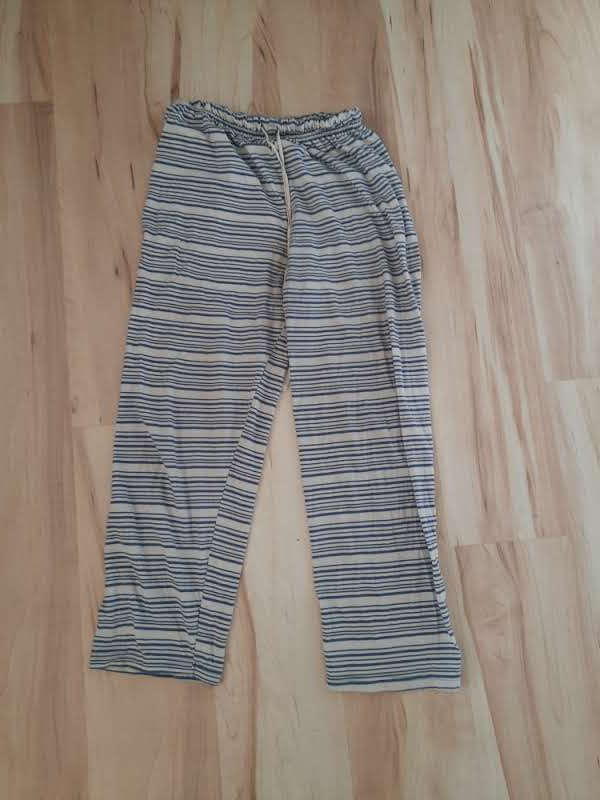clothes: (81, 90, 466, 696)
